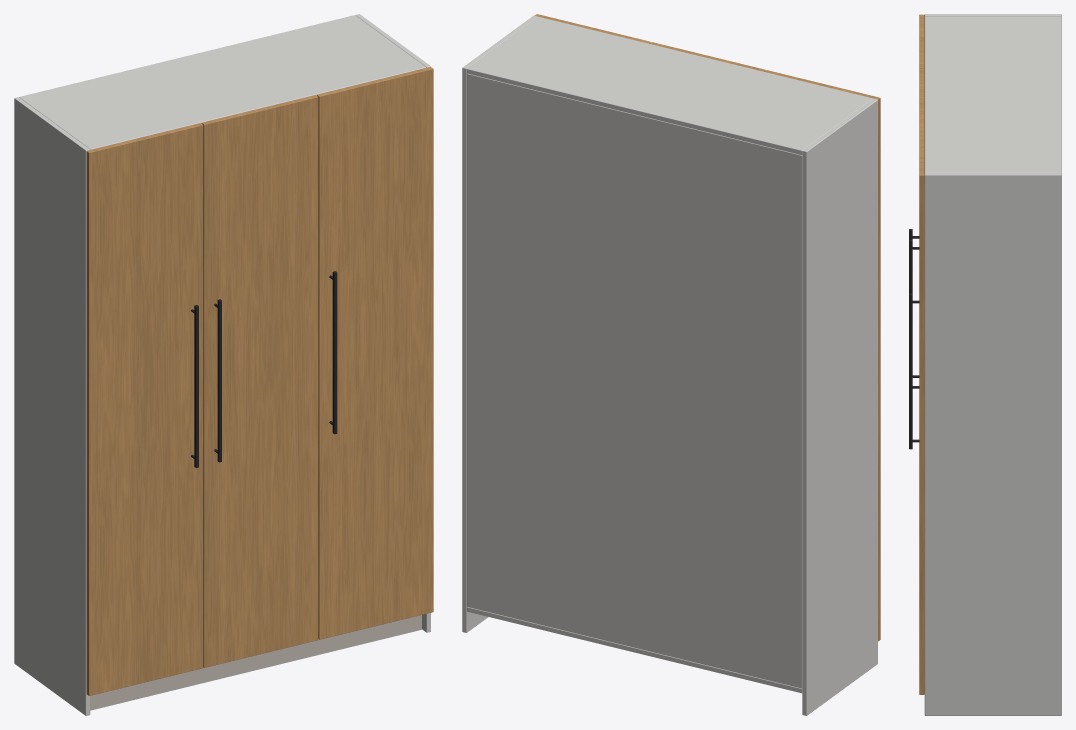
The model's file is storage_cabinet_2.glb.
The picture shows the model from 3 angles, left to right: view 1: azimuth 30°, elevation 25°; view 2: azimuth 150°, elevation 25°; view 3: azimuth 270°, elevation 25°; orthographic projection. The views are drawn at different scales.
Visible parts, largest first — view 1: storage_cabinet_2_carcass, storage_cabinet_2_door_1, storage_cabinet_2_door_2, storage_cabinet_2_door_3, storage_cabinet_2_plinth, storage_cabinet_2_handle_3, storage_cabinet_2_handle_1, storage_cabinet_2_handle_2; view 2: storage_cabinet_2_carcass, storage_cabinet_2_door_1; view 3: storage_cabinet_2_carcass, storage_cabinet_2_door_3, storage_cabinet_2_handle_3, storage_cabinet_2_door_1, storage_cabinet_2_door_2.
Boxes of the visible parts, left/top/right/bottom form: storage_cabinet_2_carcass: left=14, top=14, right=430, bottom=715; storage_cabinet_2_door_1: left=86, top=123, right=203, bottom=695; storage_cabinet_2_door_2: left=201, top=95, right=318, bottom=667; storage_cabinet_2_door_3: left=317, top=67, right=433, bottom=639; storage_cabinet_2_plinth: left=90, top=615, right=421, bottom=710; storage_cabinet_2_handle_3: left=329, top=271, right=337, bottom=434; storage_cabinet_2_handle_1: left=191, top=305, right=198, bottom=467; storage_cabinet_2_handle_2: left=214, top=299, right=221, bottom=462; storage_cabinet_2_carcass: left=462, top=15, right=877, bottom=715; storage_cabinet_2_door_1: left=764, top=70, right=880, bottom=641; storage_cabinet_2_carcass: left=924, top=14, right=1061, bottom=715; storage_cabinet_2_door_3: left=919, top=122, right=924, bottom=694; storage_cabinet_2_handle_3: left=909, top=293, right=919, bottom=449; storage_cabinet_2_door_1: left=919, top=14, right=924, bottom=68; storage_cabinet_2_door_2: left=919, top=68, right=924, bottom=121.
Size of the model in its own units: 1.34 by 2.1 by 0.537.
Materials: 4 (1 with a texture image).
